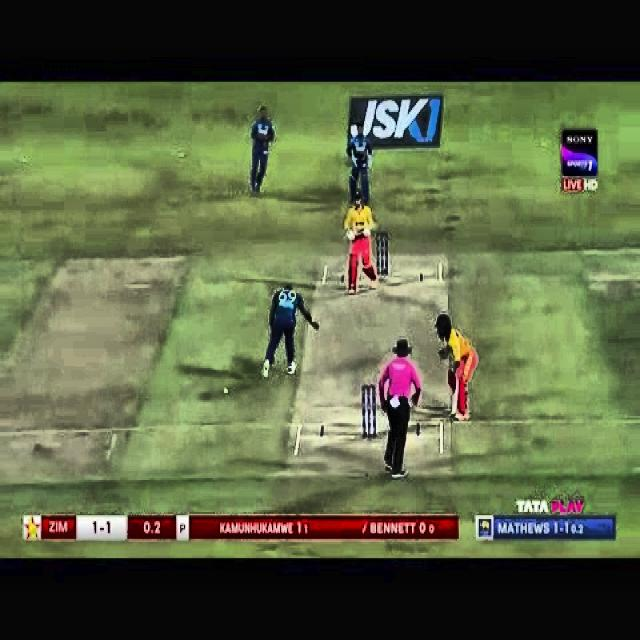Left-stump: (376, 233, 379, 275)
Middle-stump: (381, 234, 384, 275)
Right-stump: (386, 233, 388, 274)
